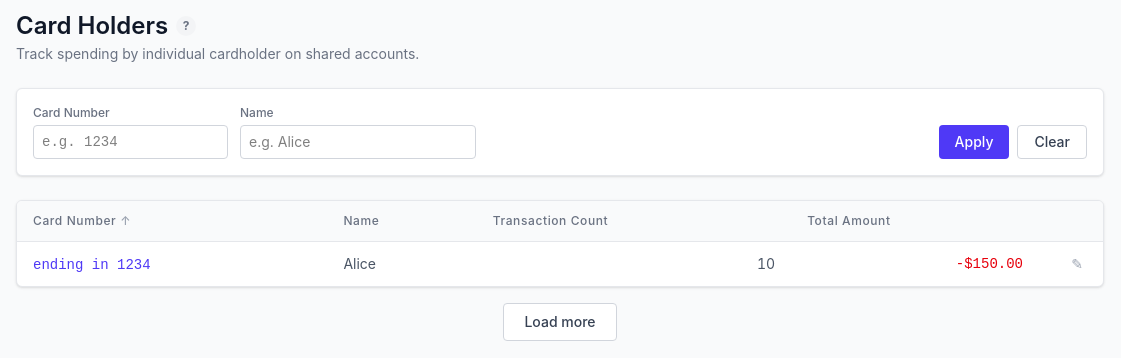
it: CardHoldersPage › shows Load more button when hasMore is true and appends items on click
The width and height of the screenshot is (1121, 358).
Expected: the button "ending in 1234" is shown, [33,254,151,274]
Click the button "Load more": [560, 322] box [503,303,616,341]
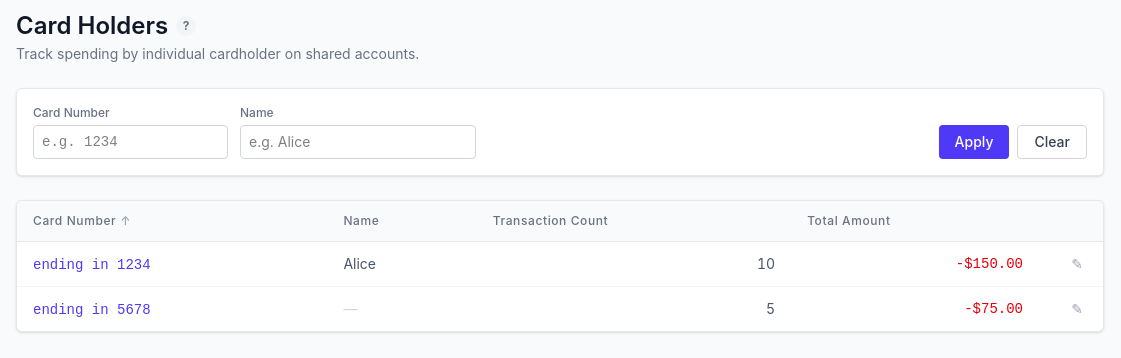
Expected: the button "ending in 1234" is shown, [33,254,151,274]
Expected: the button "ending in 5678" is shown, [33,300,151,320]
